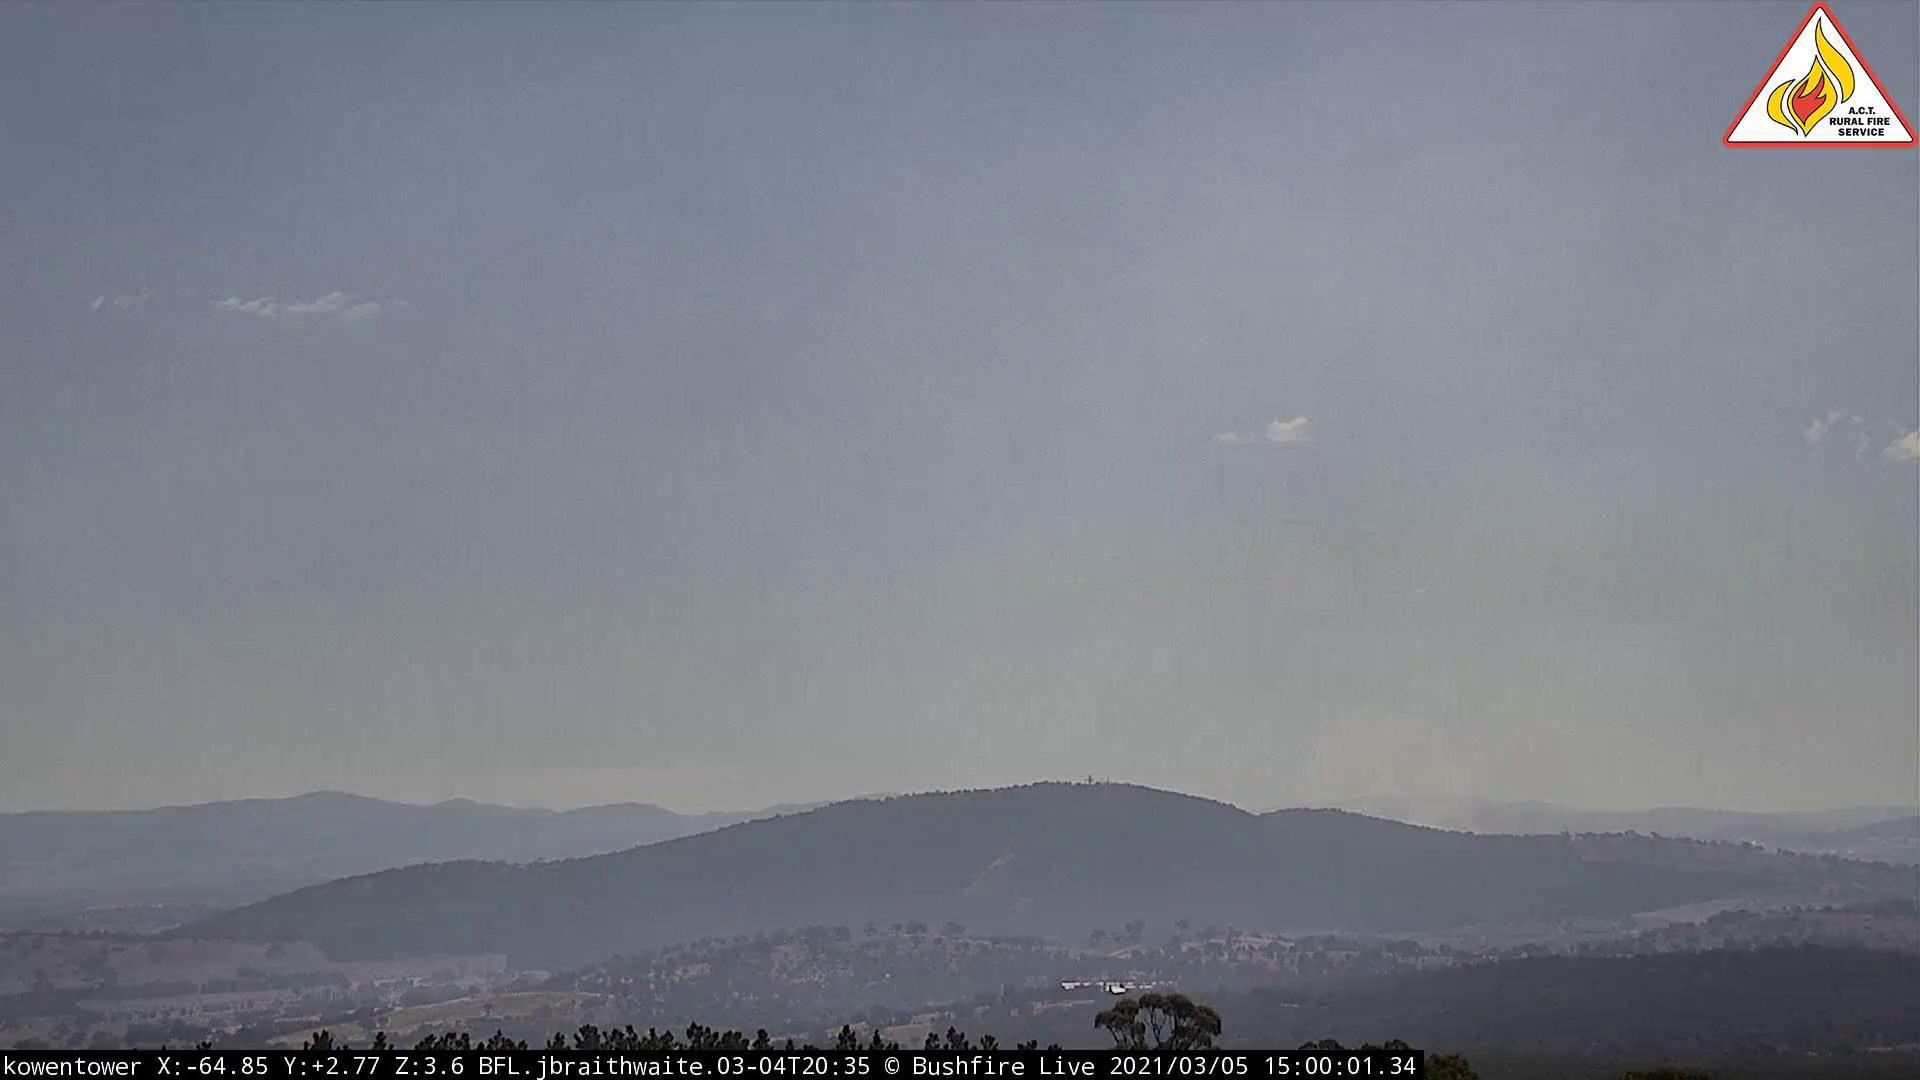Smoke: (1035, 500, 1776, 835)
